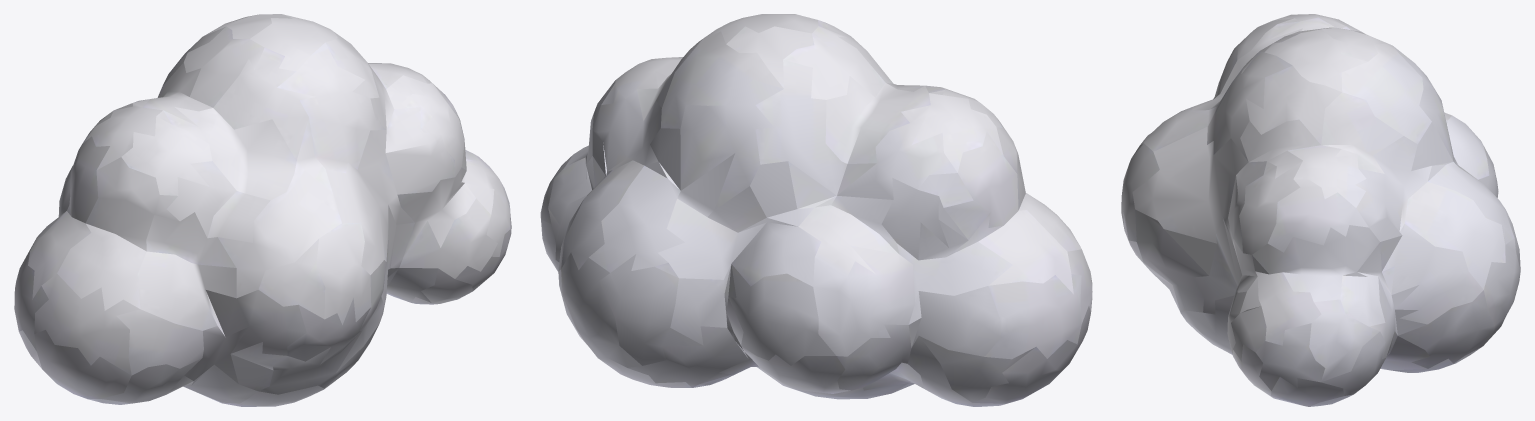
Rendered from cloud.glb.
3 renders of one model, left to right at view 1: azimuth 30°, elevation 25°; view 2: azimuth 150°, elevation 25°; view 3: azimuth 270°, elevation 25°, orthographic. The views are drawn at different scales.
Parts seen in each view (by area): view 1: Mesh_0; view 2: Mesh_0; view 3: Mesh_0.
Part boxes in pixels (x1,y1,x2,y2): Mesh_0: [14, 14, 511, 406]; Mesh_0: [540, 14, 1092, 406]; Mesh_0: [1121, 14, 1520, 406].
Size of the model in its own units: 1.9 by 1.3 by 1.41.
1 material, 1 textured.
